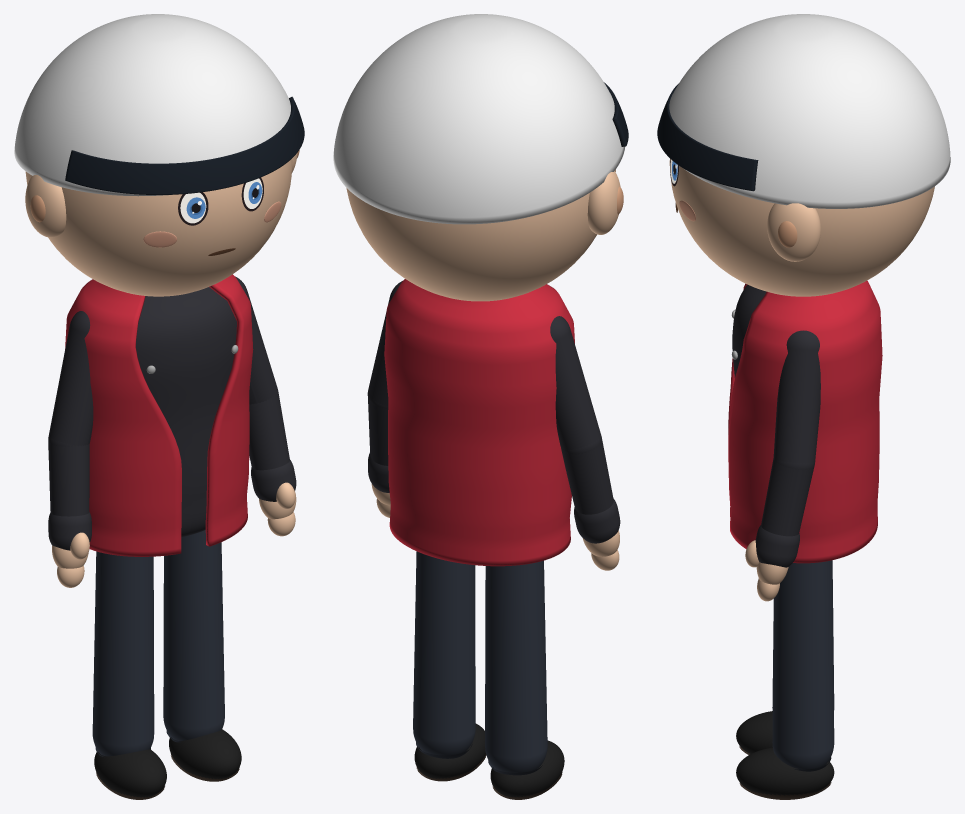
File: scooterrijder.glb
3 renders of one model, left to right at view 1: azimuth 30°, elevation 25°; view 2: azimuth 150°, elevation 25°; view 3: azimuth 270°, elevation 25°, orthographic.
Parts seen in each view (by area): view 1: scooterrijder_helm, scooterrijder_jas, scooterrijder_hoofd, scooterrijder_romp, scooterrijder_been_R, scooterrijder_been_L, scooterrijder_helm_vizier, scooterrijder_bovenarm_R, scooterrijder_onderarm_R, scooterrijder_schoen_R, scooterrijder_schoen_L, scooterrijder_onderarm_L (+4 smaller); view 2: scooterrijder_helm, scooterrijder_jas, scooterrijder_hoofd, scooterrijder_been_R, scooterrijder_been_L, scooterrijder_bovenarm_R, scooterrijder_onderarm_R, scooterrijder_schoen_R, scooterrijder_schoen_L, scooterrijder_oor_R, scooterrijder_manchet_R, scooterrijder_onderarm_L (+2 smaller); view 3: scooterrijder_helm, scooterrijder_jas, scooterrijder_hoofd, scooterrijder_been_L, scooterrijder_bovenarm_L, scooterrijder_helm_vizier, scooterrijder_schoen_L, scooterrijder_onderarm_L, scooterrijder_oor_L, scooterrijder_manchet_L, scooterrijder_romp, scooterrijder_schoen_R (+1 smaller).
Part boxes in pixels (box(x1,y1,x2,y2)): scooterrijder_helm: box(14, 14, 290, 196); scooterrijder_jas: box(65, 274, 253, 556); scooterrijder_hoofd: box(25, 159, 292, 296); scooterrijder_romp: box(135, 287, 236, 537); scooterrijder_been_R: box(92, 551, 154, 756); scooterrijder_been_L: box(163, 530, 224, 740); scooterrijder_helm_vizier: box(65, 96, 304, 194); scooterrijder_bovenarm_R: box(48, 311, 93, 446); scooterrijder_onderarm_R: box(48, 439, 89, 516); scooterrijder_schoen_R: box(94, 749, 166, 797); scooterrijder_schoen_L: box(169, 729, 241, 778); scooterrijder_onderarm_L: box(249, 392, 289, 470); scooterrijder_helm: box(333, 14, 624, 224); scooterrijder_jas: box(384, 279, 574, 566); scooterrijder_hoofd: box(346, 169, 615, 301); scooterrijder_been_R: box(485, 560, 547, 772); scooterrijder_been_L: box(413, 551, 475, 755); scooterrijder_bovenarm_R: box(550, 316, 600, 453); scooterrijder_onderarm_R: box(561, 437, 613, 514); scooterrijder_schoen_R: box(490, 740, 564, 797); scooterrijder_schoen_L: box(414, 723, 485, 778); scooterrijder_oor_R: box(587, 171, 620, 234); scooterrijder_manchet_R: box(574, 498, 620, 543); scooterrijder_onderarm_L: box(368, 391, 388, 465); scooterrijder_helm: box(669, 14, 950, 208); scooterrijder_jas: box(728, 280, 882, 563); scooterrijder_hoofd: box(669, 159, 934, 296); scooterrijder_been_L: box(772, 560, 834, 769); scooterrijder_bovenarm_L: box(773, 330, 820, 469); scooterrijder_helm_vizier: box(657, 83, 758, 191); scooterrijder_schoen_L: box(736, 747, 834, 795); scooterrijder_onderarm_L: box(761, 458, 814, 536); scooterrijder_oor_L: box(767, 203, 820, 261); scooterrijder_manchet_L: box(755, 525, 799, 567); scooterrijder_romp: box(732, 284, 766, 377); scooterrijder_schoen_R: box(736, 711, 772, 753).
Size of the model in its own units: 0.6749 by 1.82 by 0.645.
